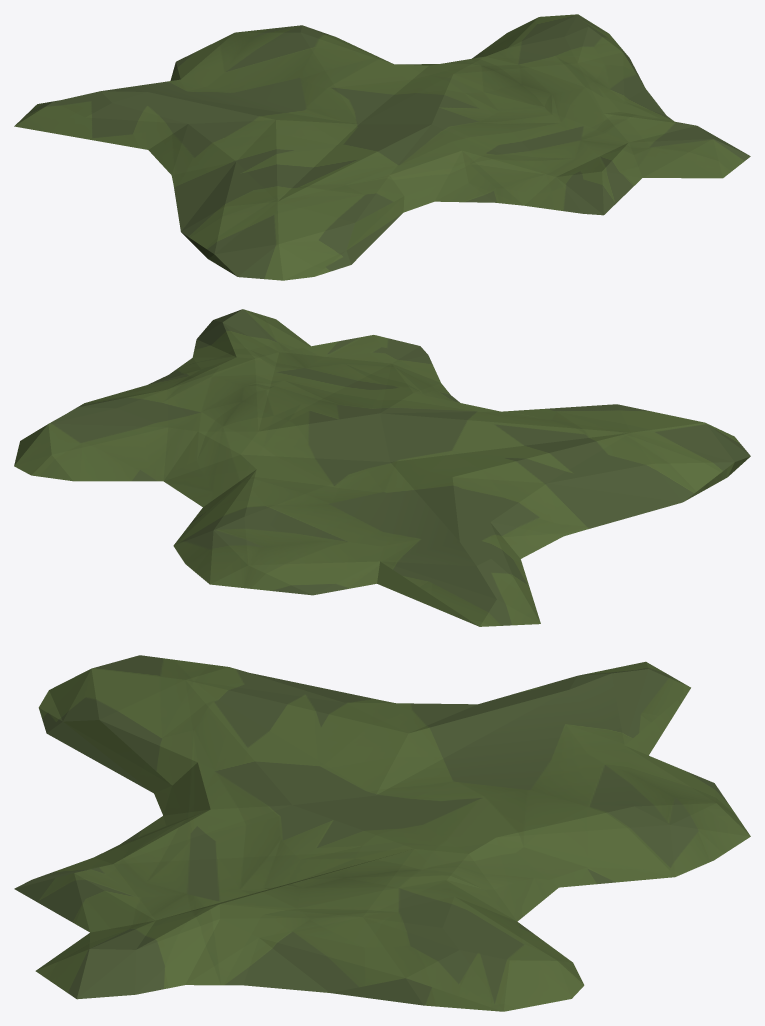
Rendered from synty-terrain-swamp-growth-01.gltf.
3 renders of one model, top to bottom at view 1: azimuth 30°, elevation 25°; view 2: azimuth 150°, elevation 25°; view 3: azimuth 270°, elevation 25°, orthographic. The views are drawn at different scales.
Visible parts, largest first — view 1: SM_Terrain_Swamp_Growth_01; view 2: SM_Terrain_Swamp_Growth_01; view 3: SM_Terrain_Swamp_Growth_01.
Part boxes in pixels (x1,y1,x2,y2): SM_Terrain_Swamp_Growth_01: (14,14,750,280); SM_Terrain_Swamp_Growth_01: (14,309,750,626); SM_Terrain_Swamp_Growth_01: (14,655,750,1011).
Bounding box in the file's own units: 1.8 × 0.098 × 1.6.
1 material, 1 textured.
